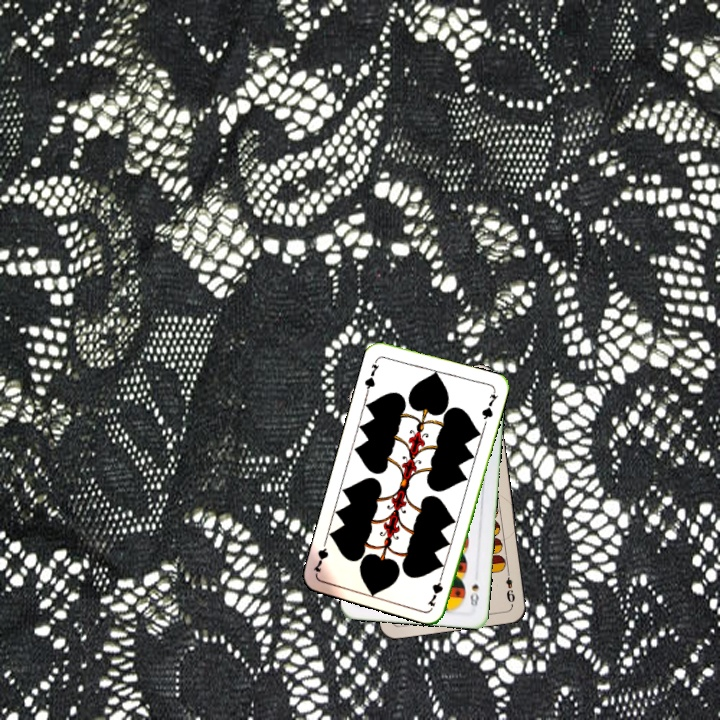E9: (502, 566, 517, 607)
G7: (424, 569, 446, 609), (360, 355, 382, 395)
S8: (466, 580, 482, 610)
